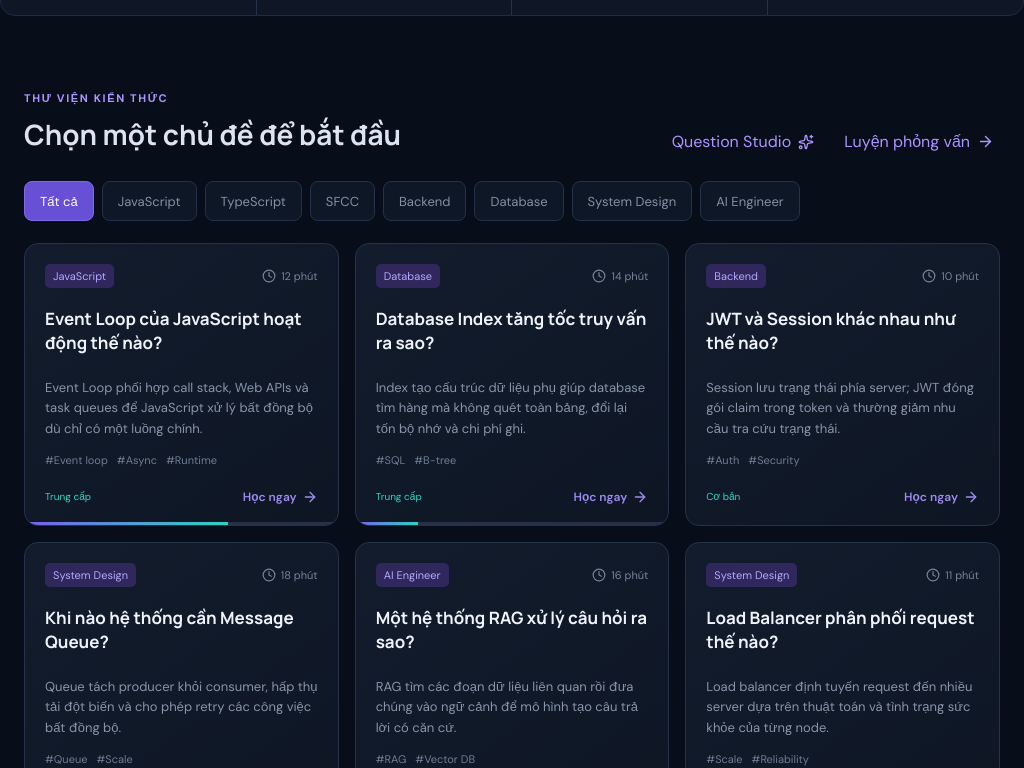
rich lesson experience › keeps the generic fallback for legacy lessons
Click the button "Database Index tăng tốc truy vấn" at (512, 384), box x1=355 y1=243 x2=669 y2=526
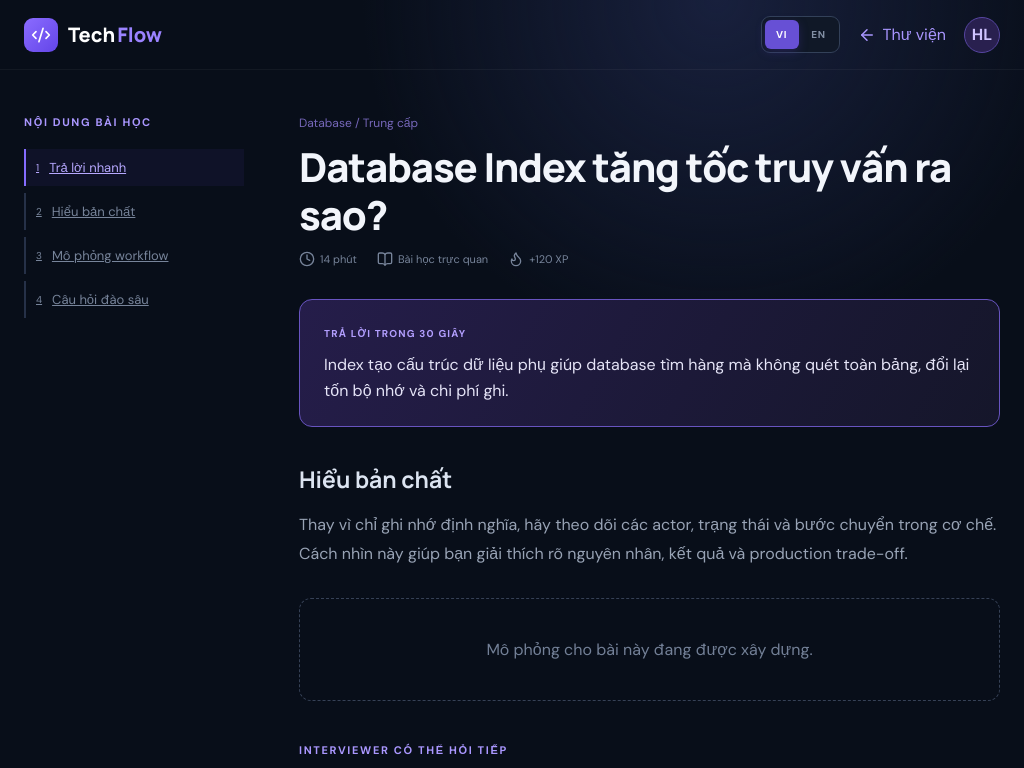
Expected: the text "Thay vì chỉ ghi nhớ định nghĩa" is shown, x1=299 y1=514 x2=996 y2=564
Expected: the text "Mô phỏng cho bài này đang được xây dựng." is shown, x1=299 y1=598 x2=1000 y2=701
